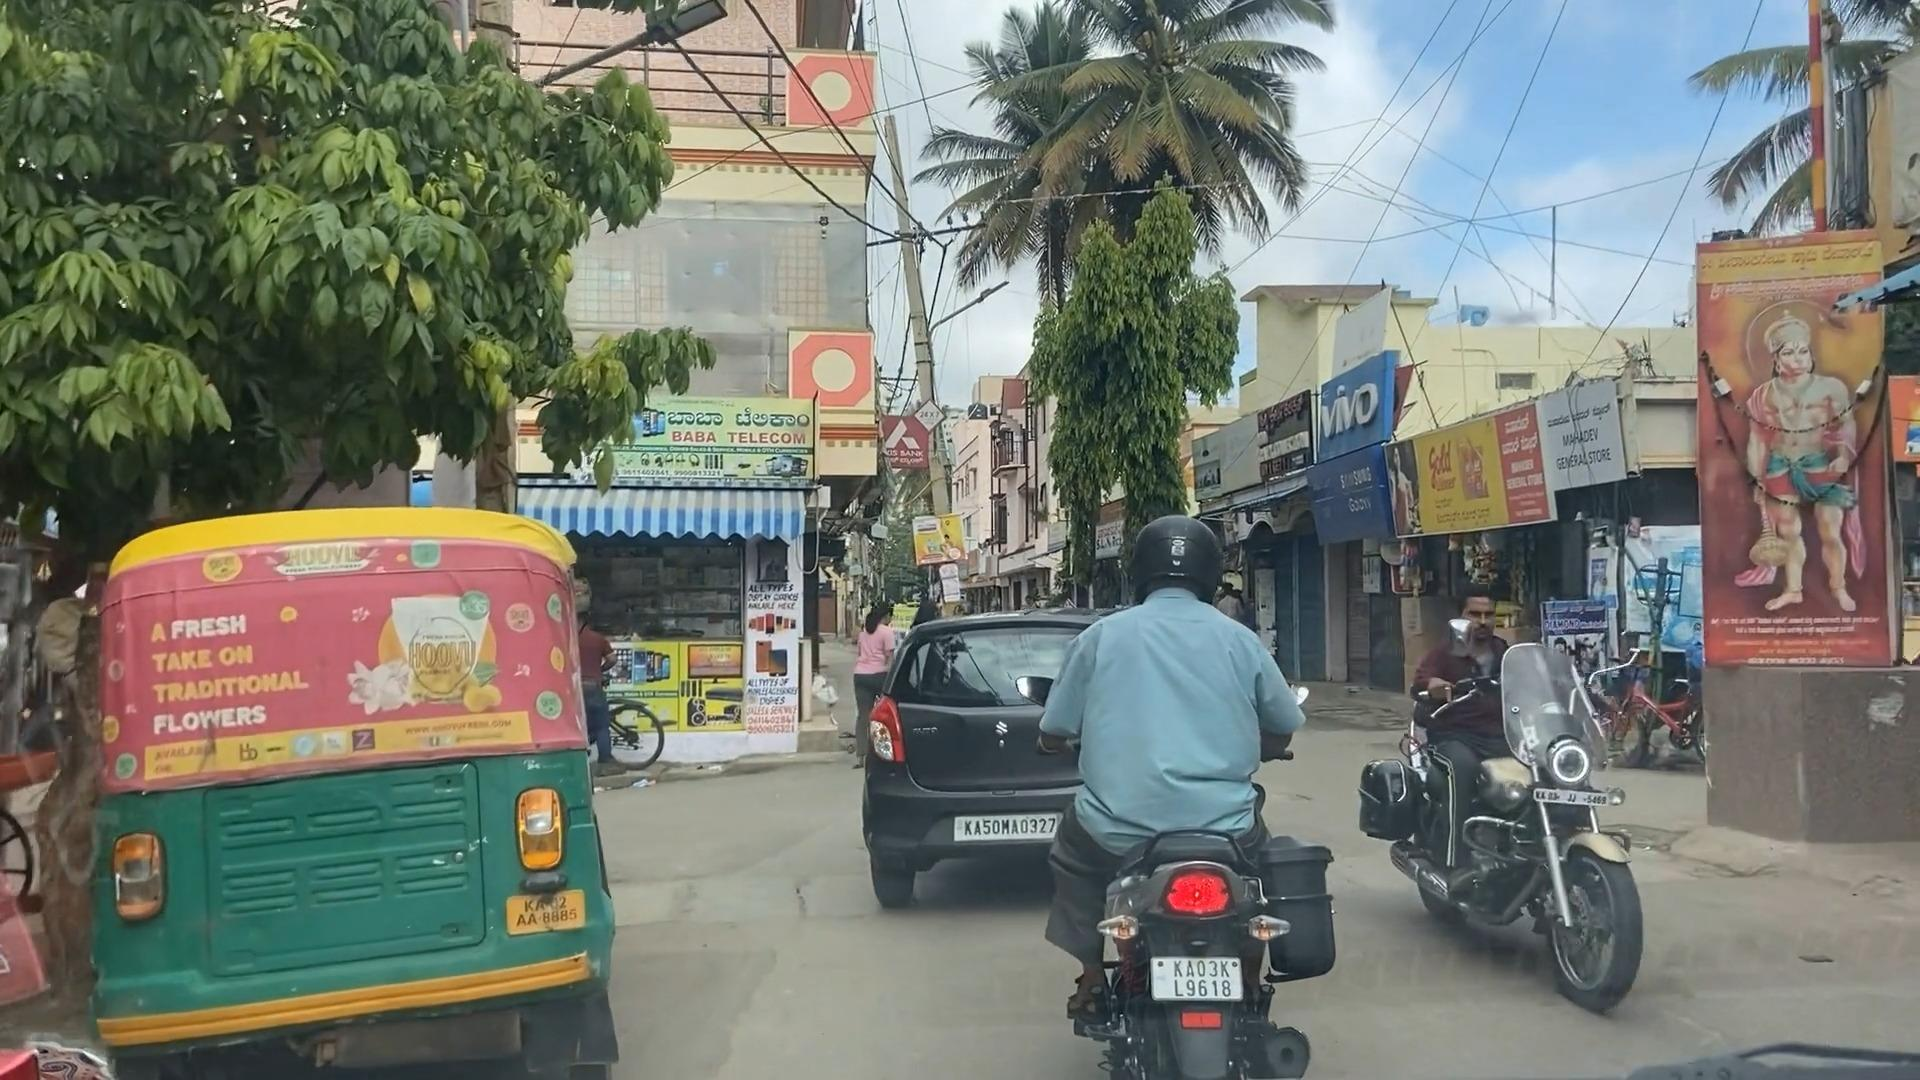LMV: (76, 520, 600, 1069), (1060, 514, 1302, 1080)
RoadDamages: (661, 940, 785, 1063), (626, 848, 765, 902), (793, 866, 864, 938)
